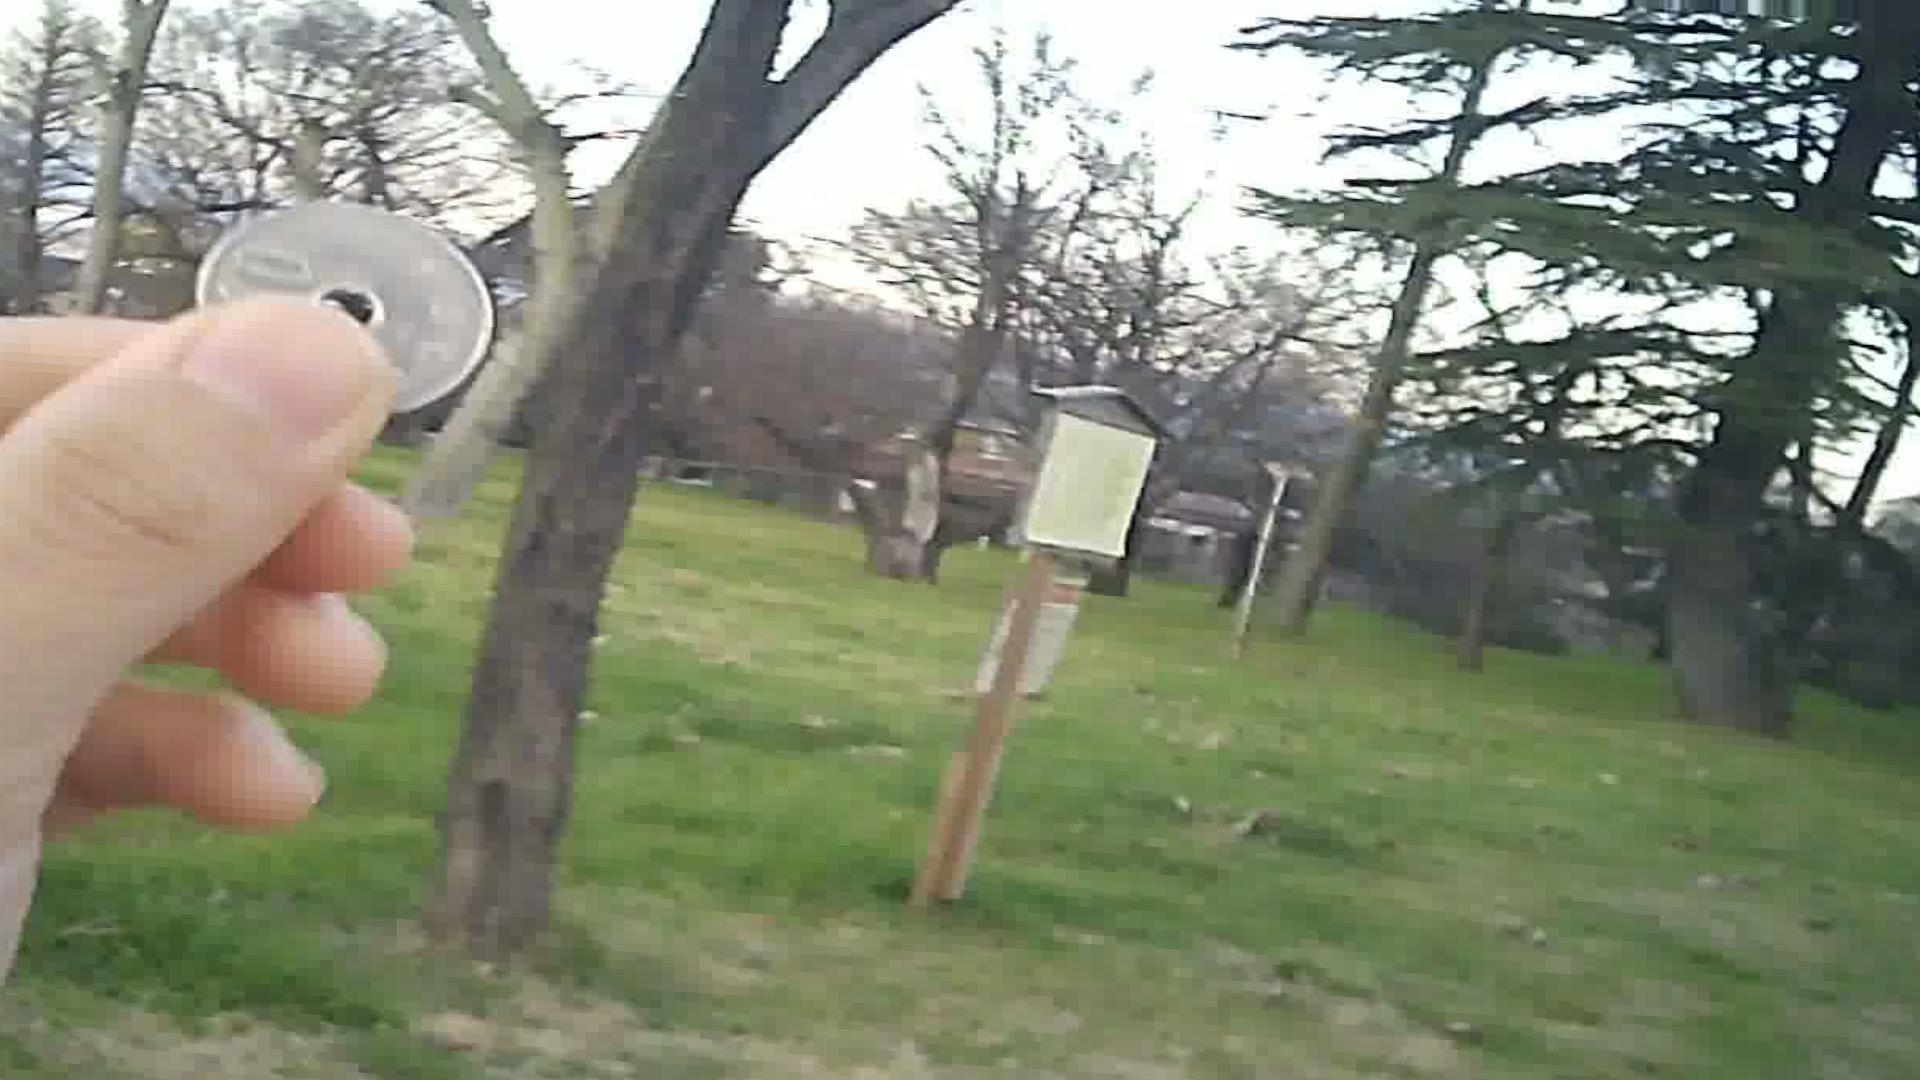50 Yen: (182, 194, 495, 422)
